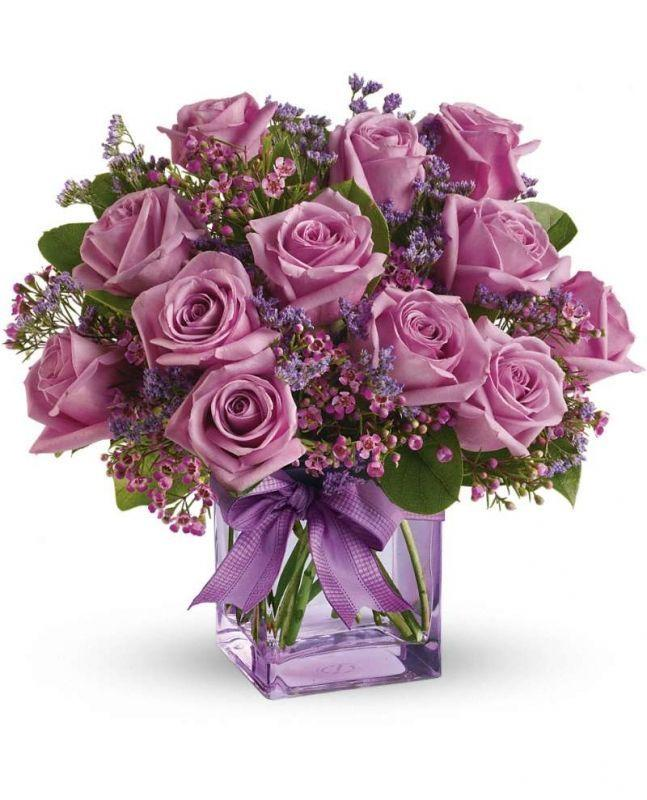Rose: (355, 266, 491, 430), (152, 355, 309, 494), (253, 175, 393, 327), (451, 310, 572, 473), (120, 245, 289, 355), (413, 182, 574, 287), (542, 238, 640, 405), (154, 74, 295, 187), (17, 332, 138, 463), (79, 177, 197, 296), (329, 90, 445, 209), (435, 93, 542, 184)
